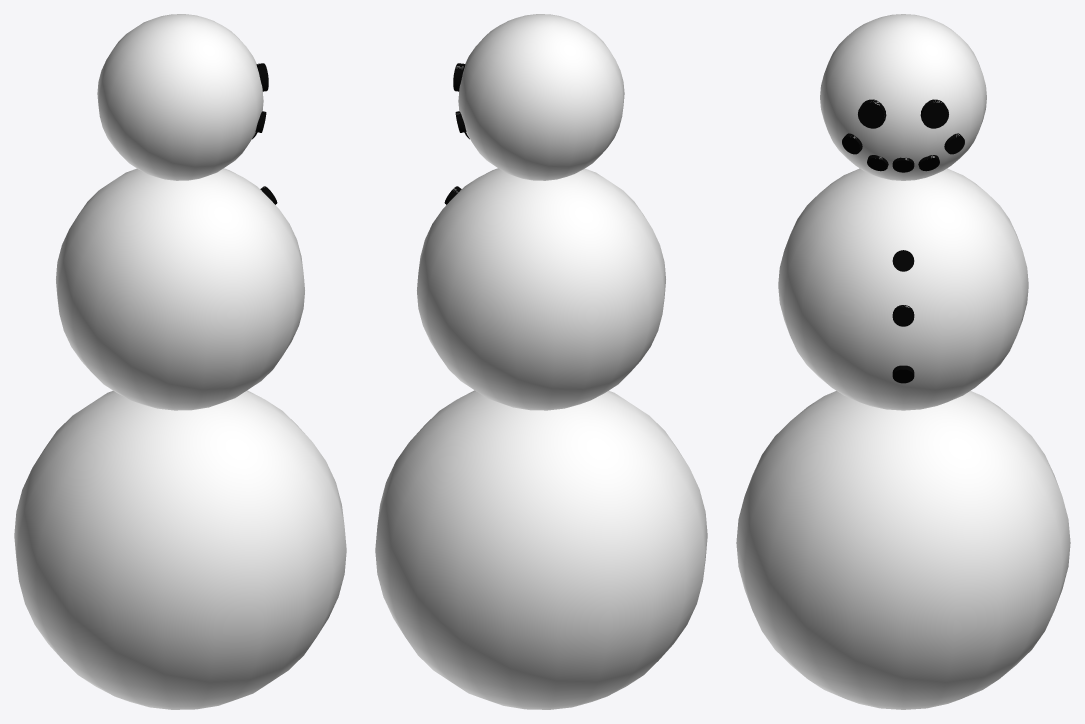
Rendered from SnowManModel.fbx.
The picture shows the model from 3 angles, left to right: view 1: azimuth 30°, elevation 25°; view 2: azimuth 150°, elevation 25°; view 3: azimuth 270°, elevation 25°; orthographic projection.
Visible parts, largest first — view 1: SnowManBottom1; view 2: SnowManBottom1; view 3: SnowManBottom1.
Part boxes in pixels (<box>): SnowManBottom1: <box>14,14,346,709</box>; SnowManBottom1: <box>375,14,707,709</box>; SnowManBottom1: <box>736,14,1070,709</box>.
Size of the model in its own units: 2 by 4.44 by 2.
Materials: 1 (1 with a texture image).
